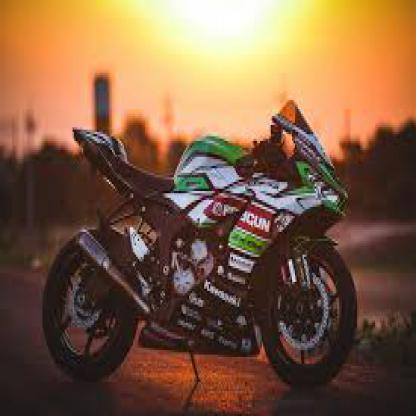Motorcycle: (36, 97, 358, 387)
